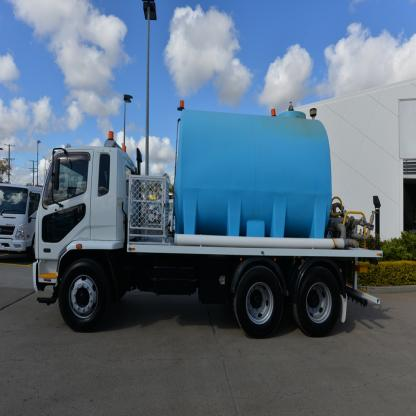truck: (32, 111, 385, 338)
